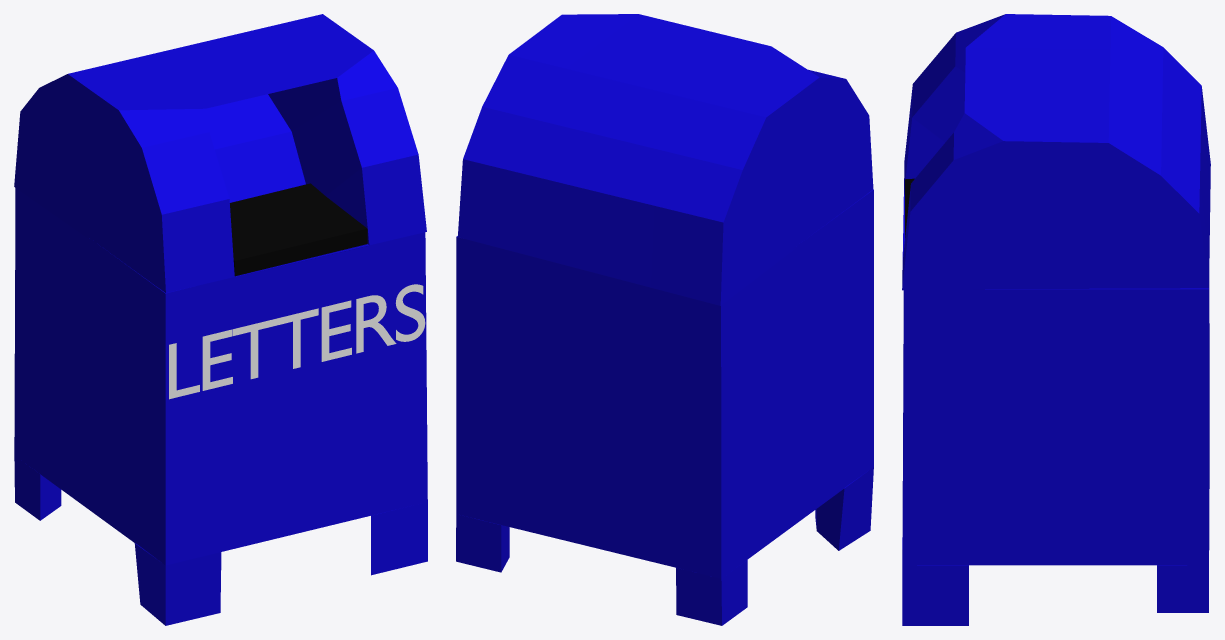
File: MailPost.fbx
3 views of the same model, side by side, from view 1: azimuth 30°, elevation 25°; view 2: azimuth 150°, elevation 25°; view 3: azimuth 270°, elevation 25° (orthographic).
Visible parts, largest first — view 1: Base, TopPart, InnerPart, Text; view 2: Base, TopPart; view 3: Base, TopPart.
Boxes of the visible parts, x1=… form: Base: x1=14, y1=188, x2=427, y2=625; TopPart: x1=14, y1=14, x2=426, y2=292; InnerPart: x1=230, y1=183, x2=367, y2=276; Text: x1=169, y1=284, x2=425, y2=399; Base: x1=456, y1=189, x2=873, y2=625; TopPart: x1=457, y1=14, x2=873, y2=305; Base: x1=902, y1=194, x2=1209, y2=625; TopPart: x1=902, y1=14, x2=1210, y2=290.
Size of the model in its own units: 202 by 353 by 203.
